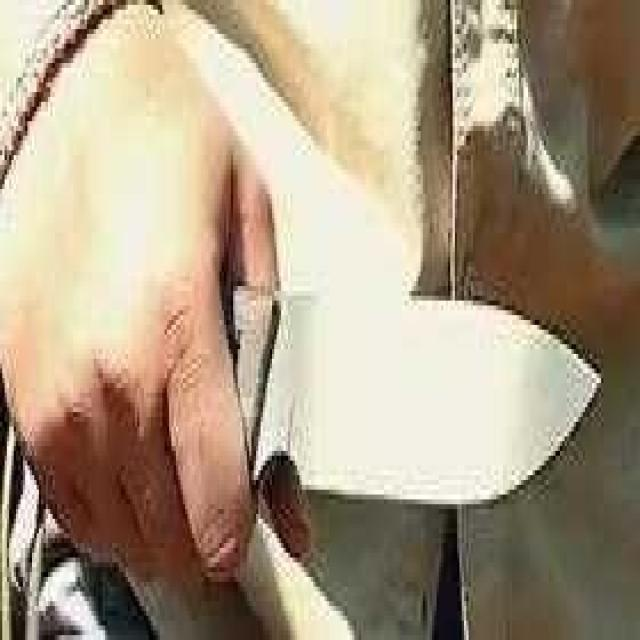knife: (112, 198, 627, 548)
